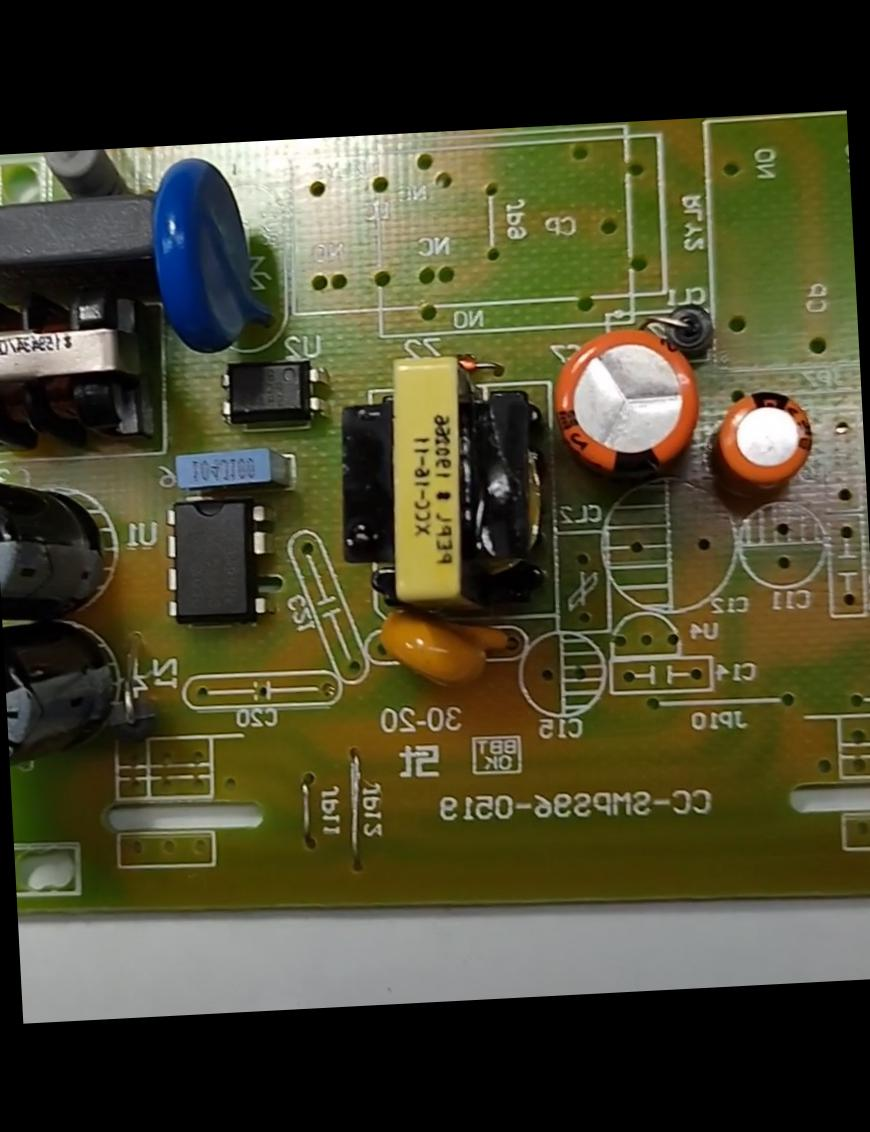Cap1: (550, 310, 702, 492)
Cap2: (708, 363, 830, 514)
Cap3: (0, 464, 117, 620)
Cap4: (2, 613, 130, 774)
MOSFET: (141, 476, 279, 636)
Mov: (124, 140, 272, 370)
Resistor: (40, 148, 116, 198)
Transformer: (328, 340, 544, 610), (0, 262, 148, 453)
